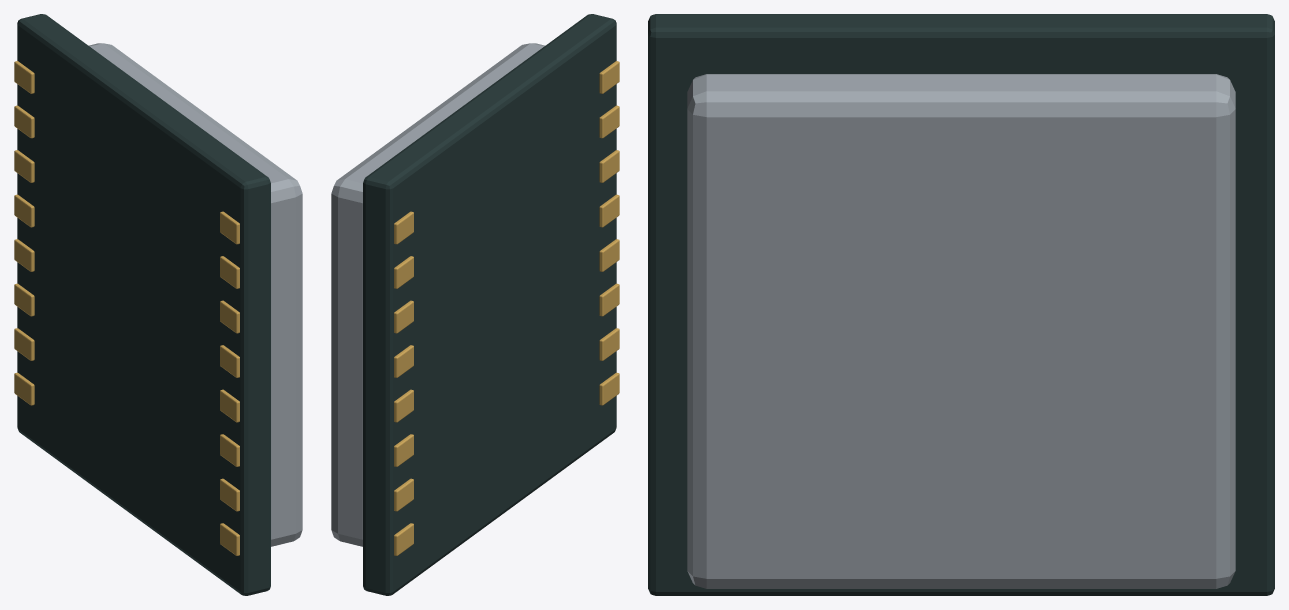
File: cpu.glb
3 views of the same model, side by side, from view 1: azimuth 30°, elevation 25°; view 2: azimuth 150°, elevation 25°; view 3: azimuth 270°, elevation 25° (orthographic). The views are drawn at different scales.
Parts seen in each view (by area): view 1: CPU_PCB_Deep_Slate, CPU_Metal_Aluminum, CPU_Contact_Gold; view 2: CPU_PCB_Deep_Slate, CPU_Metal_Aluminum, CPU_Contact_Gold; view 3: CPU_Metal_Aluminum, CPU_PCB_Deep_Slate.
Boxes of the visible parts, x1=… form: CPU_PCB_Deep_Slate: x1=17, y1=14, x2=270, y2=595; CPU_Metal_Aluminum: x1=89, y1=43, x2=302, y2=546; CPU_Contact_Gold: x1=14, y1=61, x2=239, y2=555; CPU_PCB_Deep_Slate: x1=363, y1=14, x2=616, y2=595; CPU_Metal_Aluminum: x1=331, y1=43, x2=544, y2=546; CPU_Contact_Gold: x1=394, y1=61, x2=619, y2=555; CPU_Metal_Aluminum: x1=687, y1=74, x2=1235, y2=588; CPU_PCB_Deep_Slate: x1=648, y1=14, x2=1274, y2=595.
Size of the model in its own units: 0.0084 by 0.04 by 0.04.
